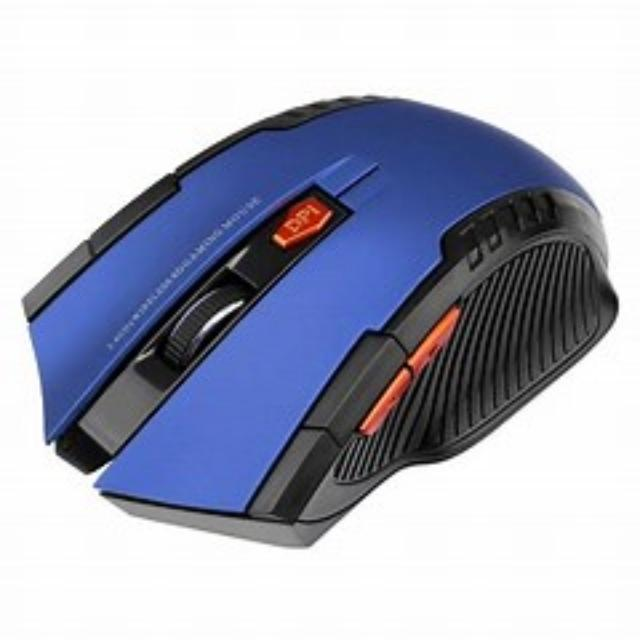Computer-Mouse: (21, 96, 619, 552)
